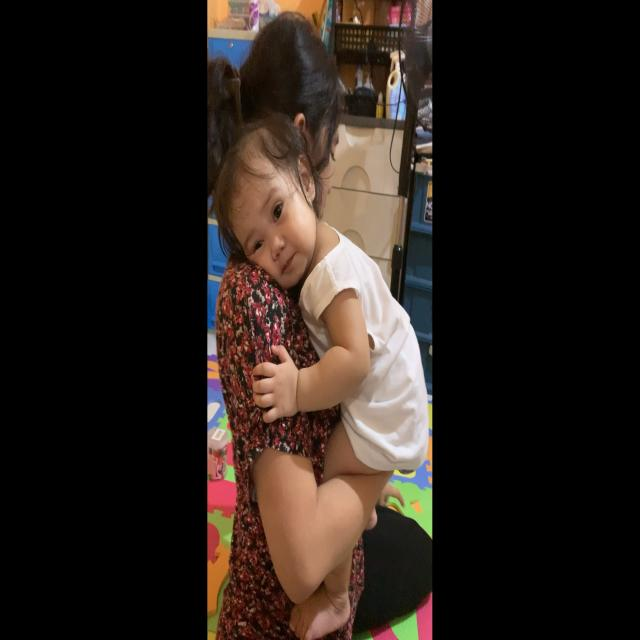adult: (207, 13, 434, 640)
child: (214, 110, 428, 640)
